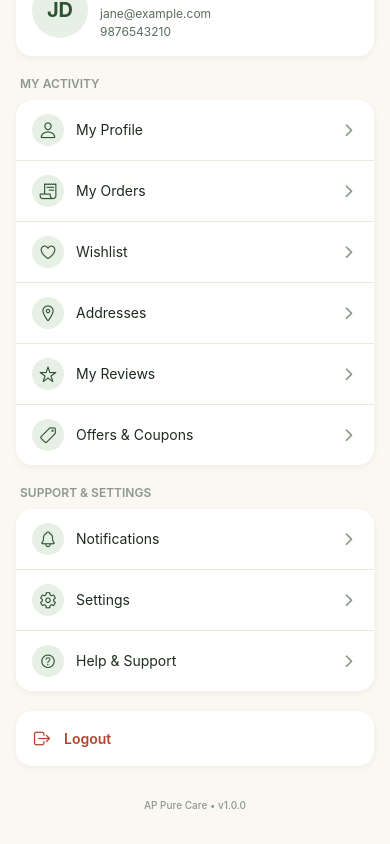
Test: AccountScreen › opens a confirmation dialog before logging out, and cancelling leaves the session intact
(page scrolled)
Step 1. Click the button "Logout" → coordinates (88, 738), box [16, 711, 374, 766]
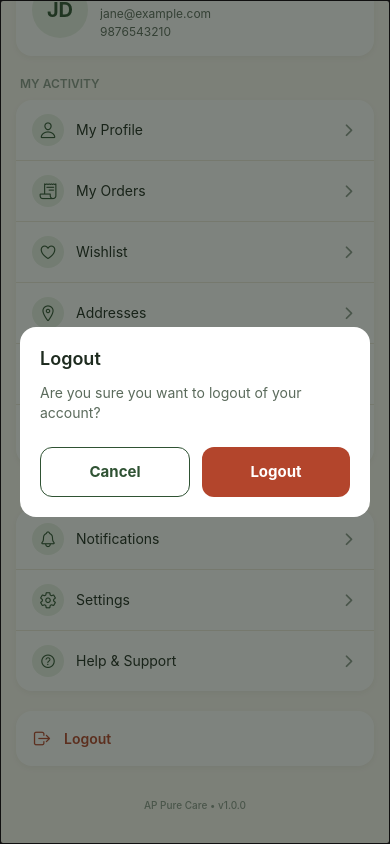
Expected: the text "Are you sure you want to logout of your account?" is shown, [40, 383, 350, 423]
Step 2. Click the button "Cancel" → coordinates (115, 472), box [40, 447, 190, 497]
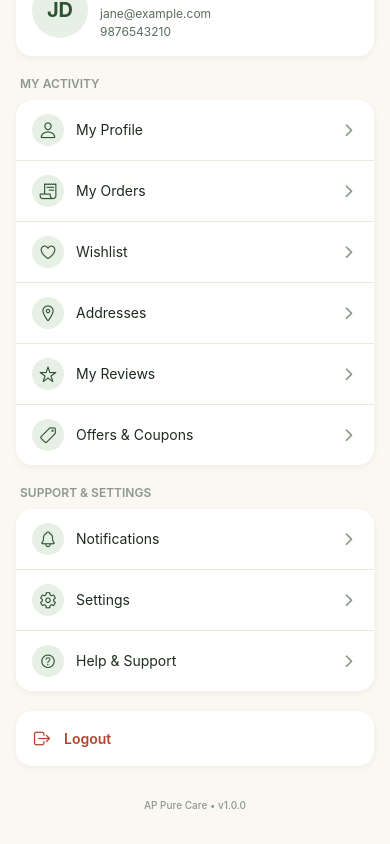
Expected: the text "Are you sure you want to logout of your account?" is gone
